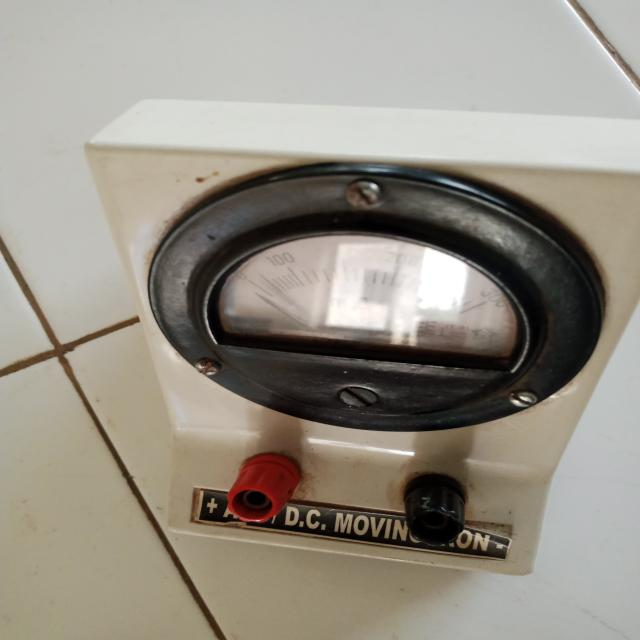Ammeter Analog: (60, 107, 633, 584)
